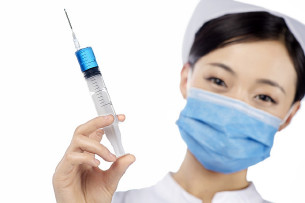face_mask: (177, 43, 283, 173)
